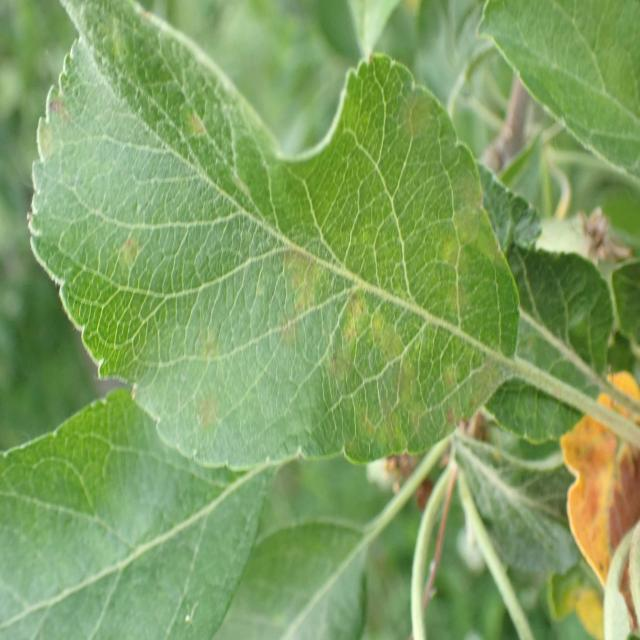scab: (45, 12, 508, 424)
